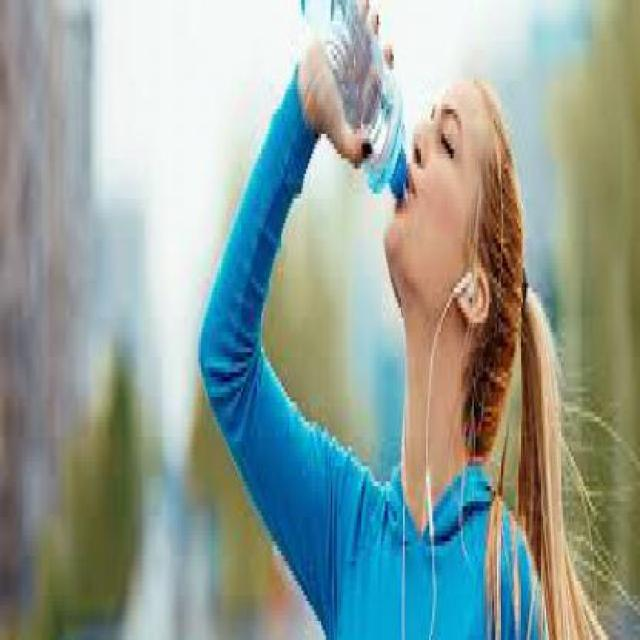Drinking: (284, 0, 418, 238)
